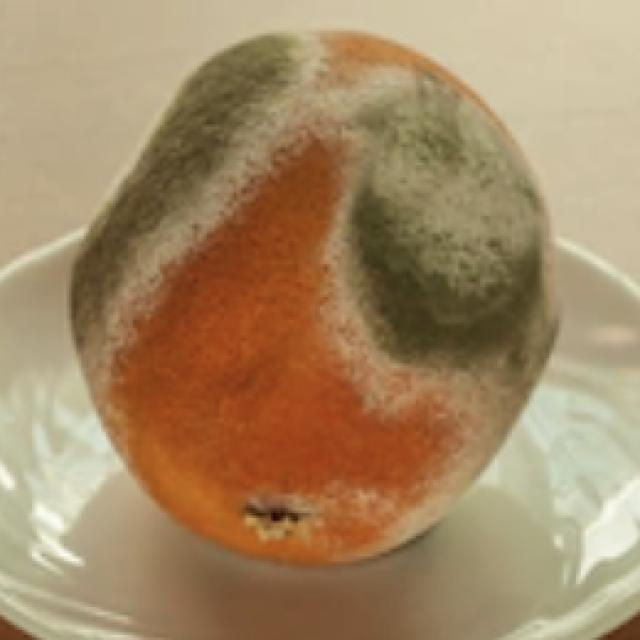sangat-busuk: (72, 33, 557, 573)
